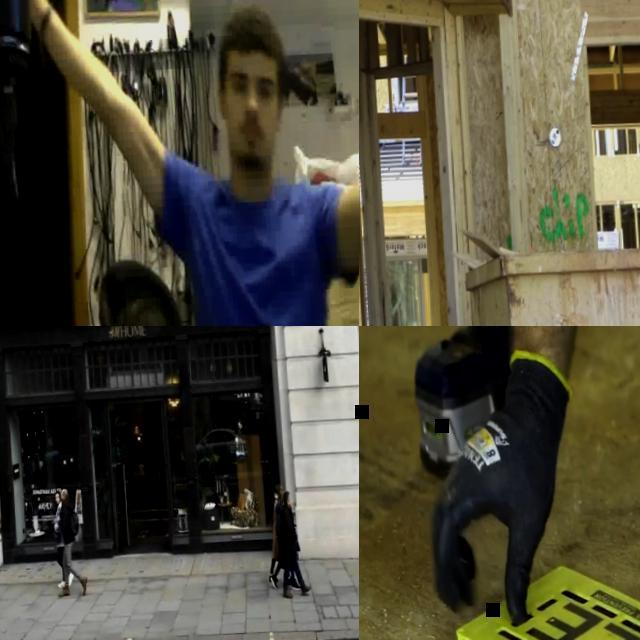no_helmet: (223, 8, 283, 66), (273, 482, 282, 494), (282, 489, 290, 500), (278, 491, 283, 501), (61, 488, 68, 495), (53, 489, 59, 496)
no_mask: (230, 118, 274, 170), (286, 496, 290, 507), (59, 496, 64, 503), (54, 498, 59, 504)
no_vest: (181, 189, 333, 326), (278, 509, 294, 559), (58, 507, 75, 544), (269, 497, 280, 548), (274, 507, 284, 553), (52, 508, 62, 548)
person: (16, 0, 359, 326), (408, 326, 640, 640), (49, 488, 88, 598), (275, 490, 310, 600), (264, 492, 299, 592), (260, 480, 290, 589), (51, 487, 74, 590)
